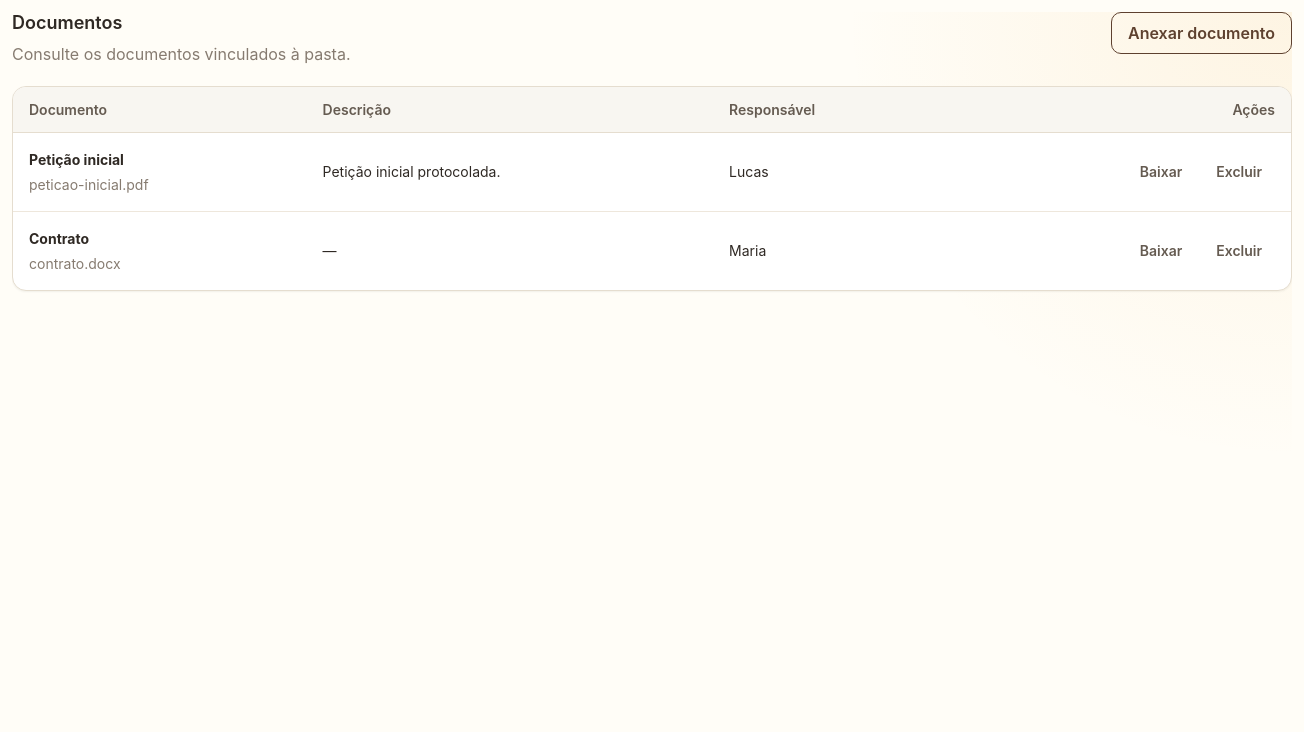
Test: FolderDocuments › abre formulário para anexar documento
This screenshot has width=1304, height=732.
Click the button "Anexar documento": (1202, 33) [1111,12,1292,54]
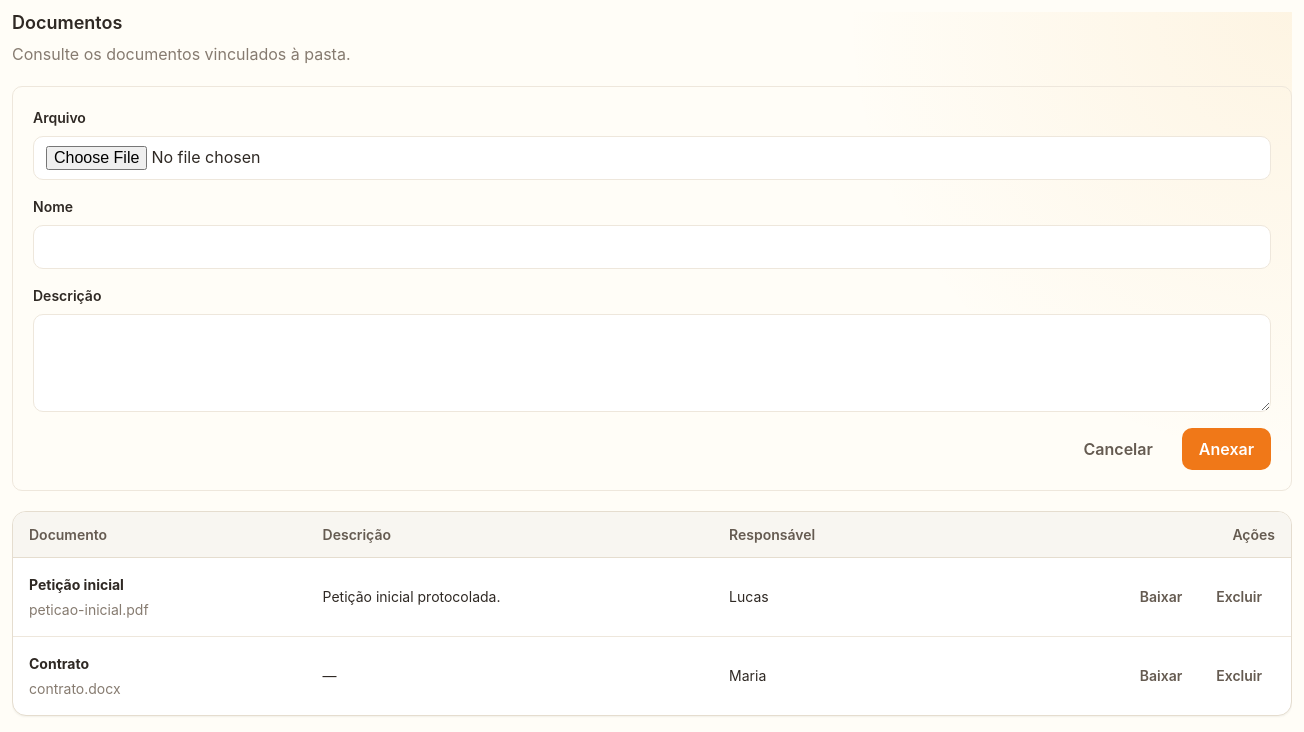
Check: the file field labelled "Arquivo" is shown, box [33,136,1271,180]
Check: the field named "name" is shown, box [33,225,1271,269]
Check: the text box named "description" is shown, box [33,314,1271,412]
